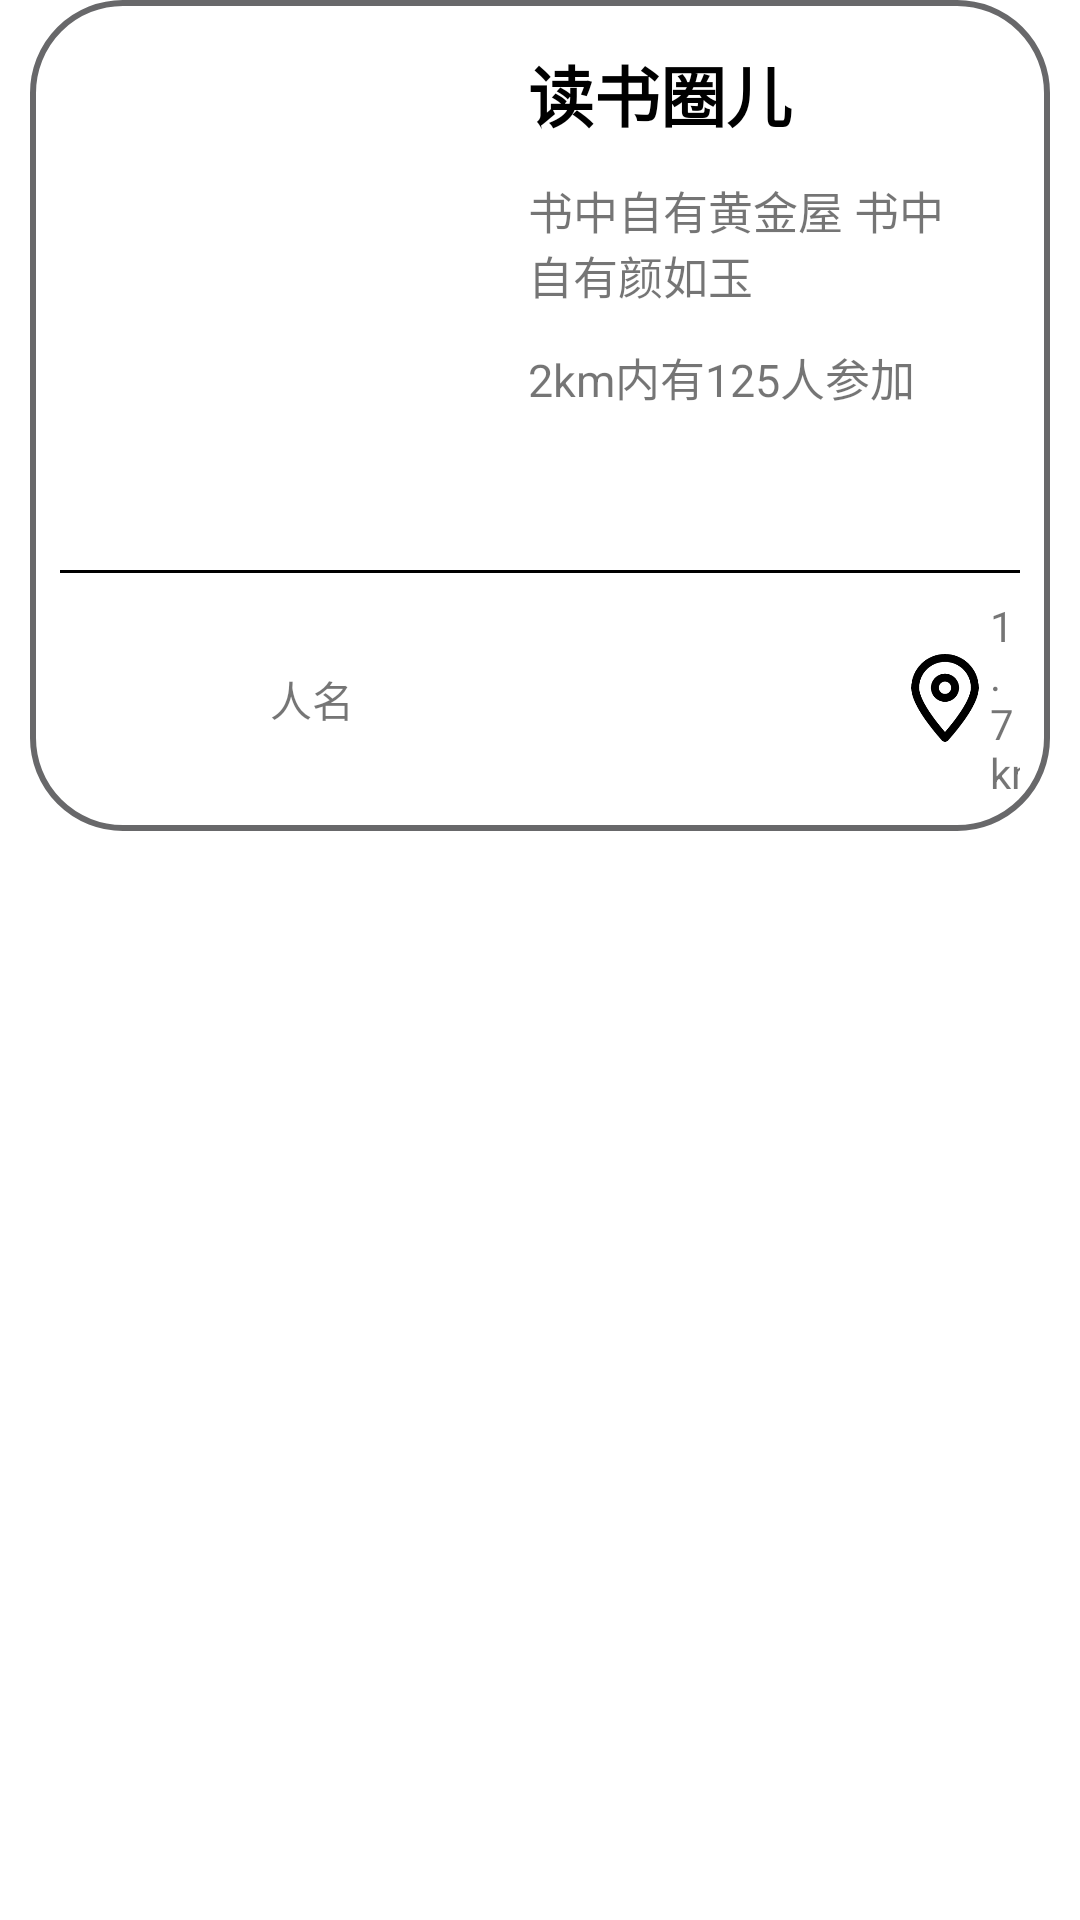

Icon bounding boxes for this 1080px x 1920px phone screenshot, format (x1=x1, y1=y1, x2=x2, y2=y2):
position: (x1=911, y1=654, x2=979, y2=742)
